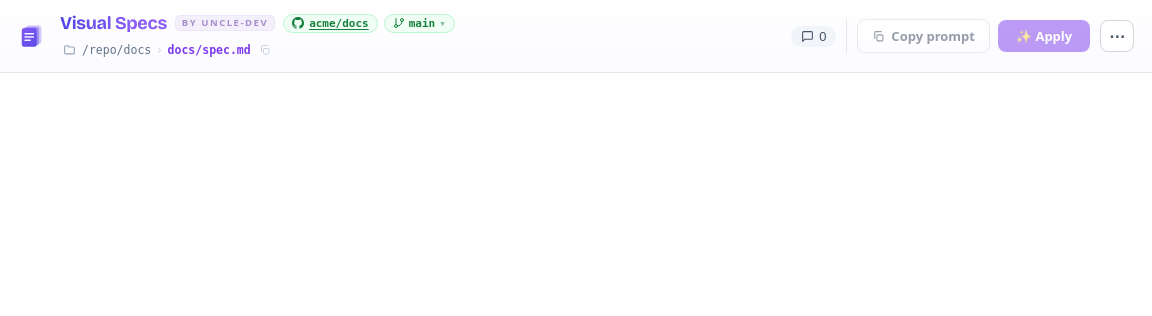
Test: the branch is a control where configuration enables one (R-6.1) › opens the list of branches the server reported
Click the button with test id "git-branch-switch".
click(419, 23)  # box [384,14,455,32]
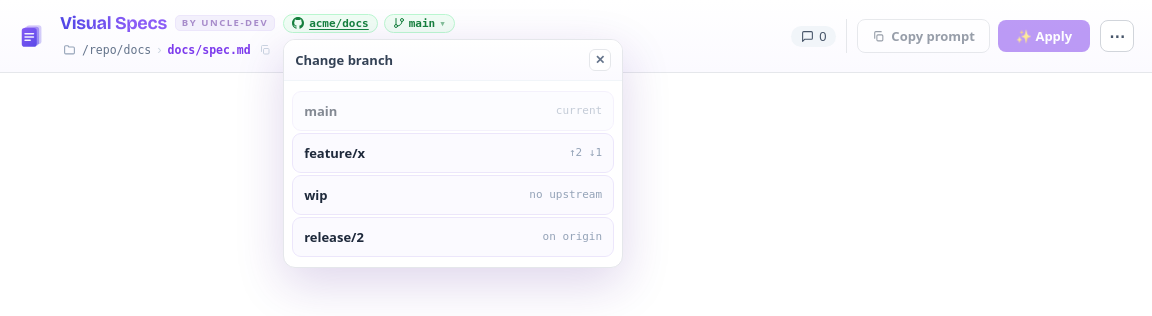
expect the button with test id "git-branch-feature/x" is shown: met, box [292,132,614,172]
expect the button with test id "git-branch-wip" is shown: met, box [292,174,614,214]
expect the button with test id "git-branch-release/2" is shown: met, box [292,216,614,256]
